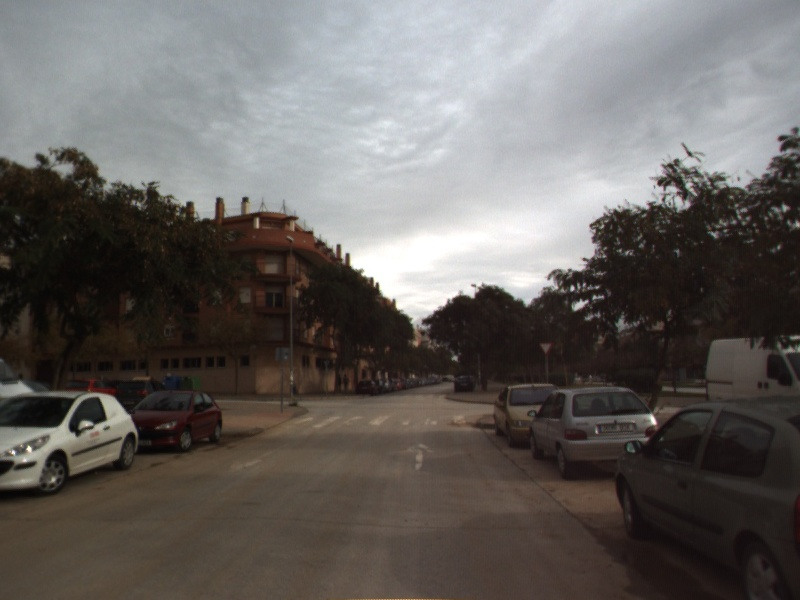STRAIGHT: (401, 440, 437, 472)
